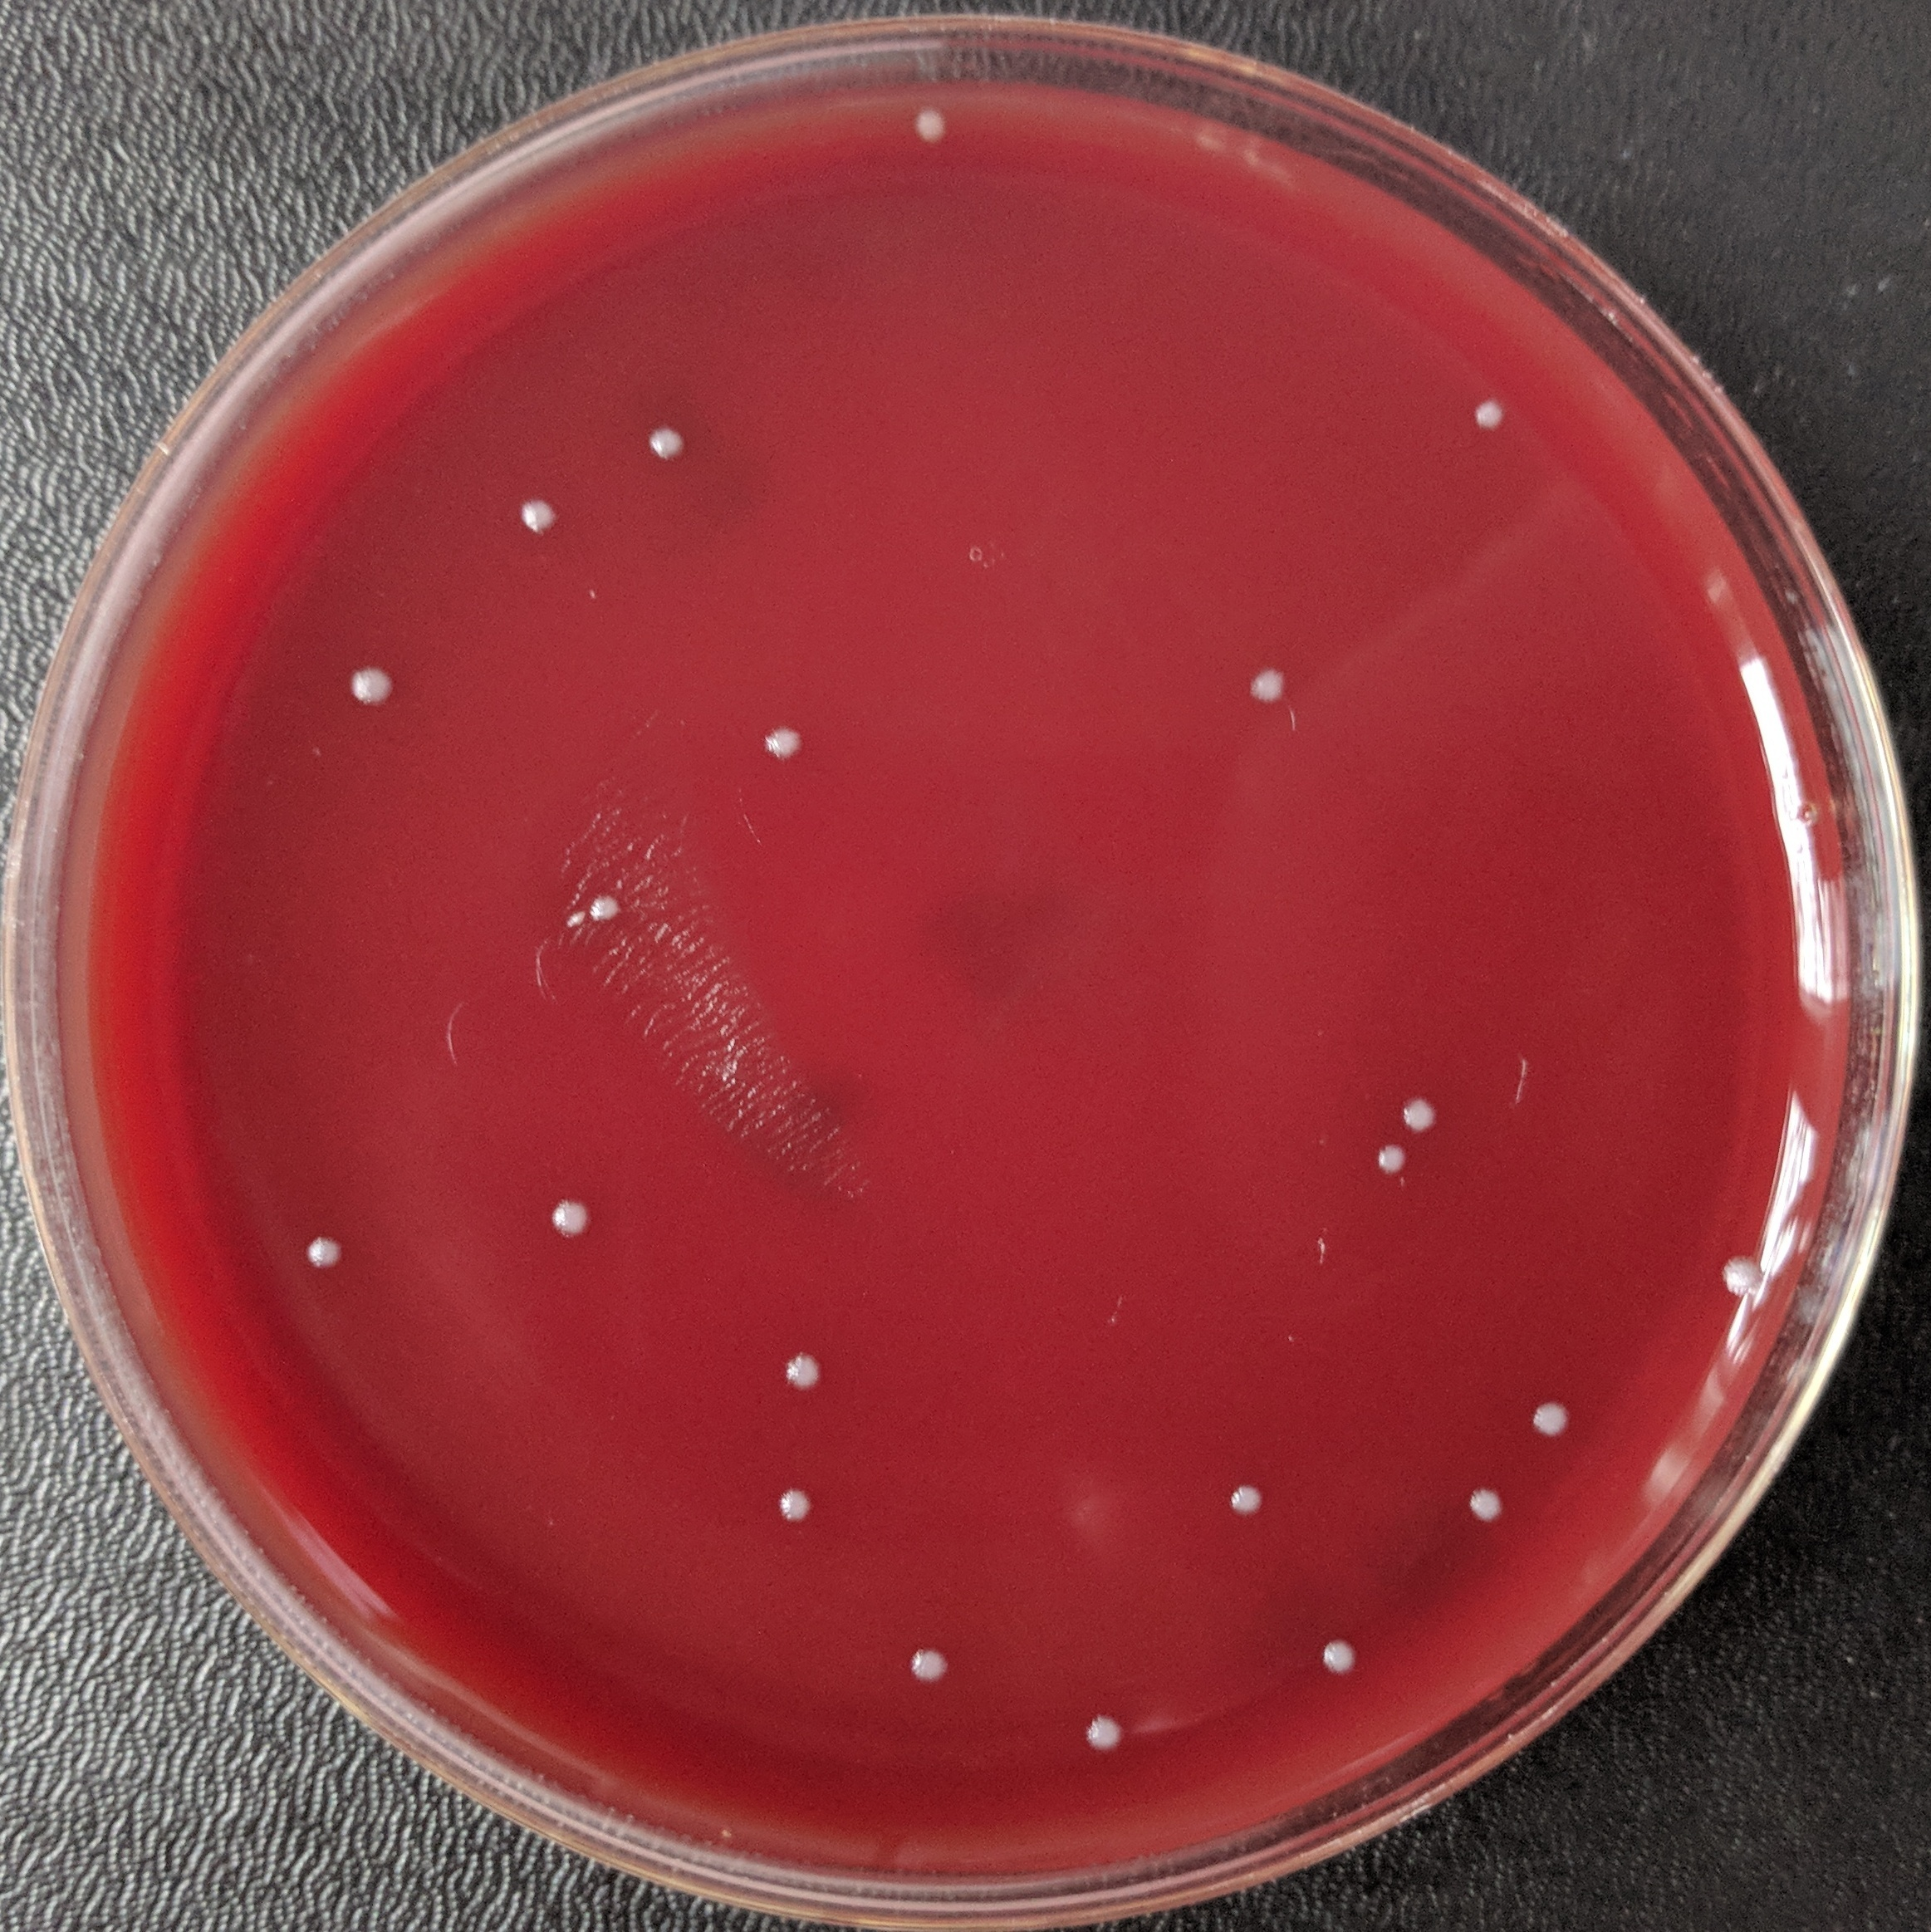sp15: (347, 662, 400, 711), (1526, 1398, 1577, 1445), (1717, 1251, 1765, 1302), (907, 1640, 955, 1690), (1241, 663, 1293, 709), (771, 1484, 822, 1530), (1395, 1090, 1448, 1134), (645, 421, 693, 467), (1082, 1713, 1130, 1759), (548, 1196, 598, 1240), (1462, 1479, 1507, 1529), (760, 722, 812, 764), (782, 1350, 826, 1396), (1317, 1635, 1362, 1679), (911, 104, 953, 150), (520, 494, 562, 538), (1227, 1481, 1270, 1523), (304, 1233, 347, 1274), (1374, 1139, 1413, 1182), (1469, 395, 1508, 435), (589, 892, 624, 924), (562, 909, 589, 931)
